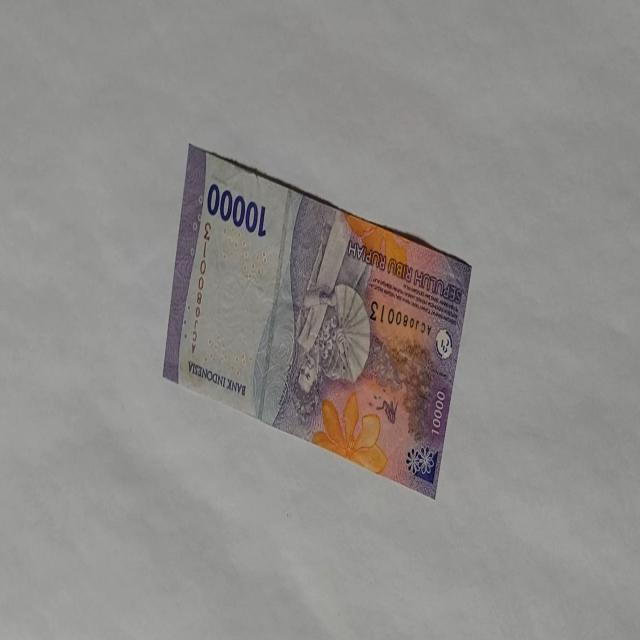sepuluh ribu rupiah: (162, 140, 472, 502), (205, 182, 268, 238), (186, 358, 247, 398)
